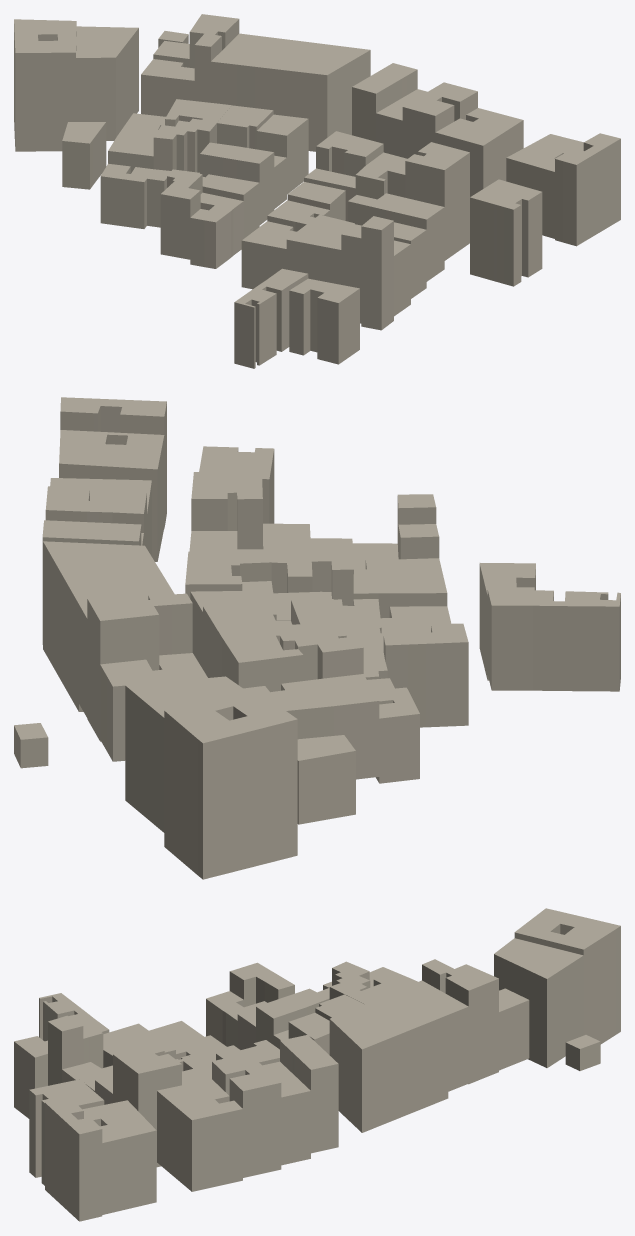
Rendered from senglea_59_26_far.glb.
3 views of the same model, one above another, from view 1: azimuth 30°, elevation 25°; view 2: azimuth 150°, elevation 25°; view 3: azimuth 270°, elevation 25° (orthographic). The views are drawn at different scales.
Parts seen in each view (by area): view 1: geometry_0; view 2: geometry_0; view 3: geometry_0.
Boxes of the visible parts, x1,y1,x2,y2 form: geometry_0: (14, 14, 620, 368); geometry_0: (14, 397, 620, 879); geometry_0: (14, 908, 620, 1221).
Size of the model in its own units: 88.08 by 34.81 by 109.
